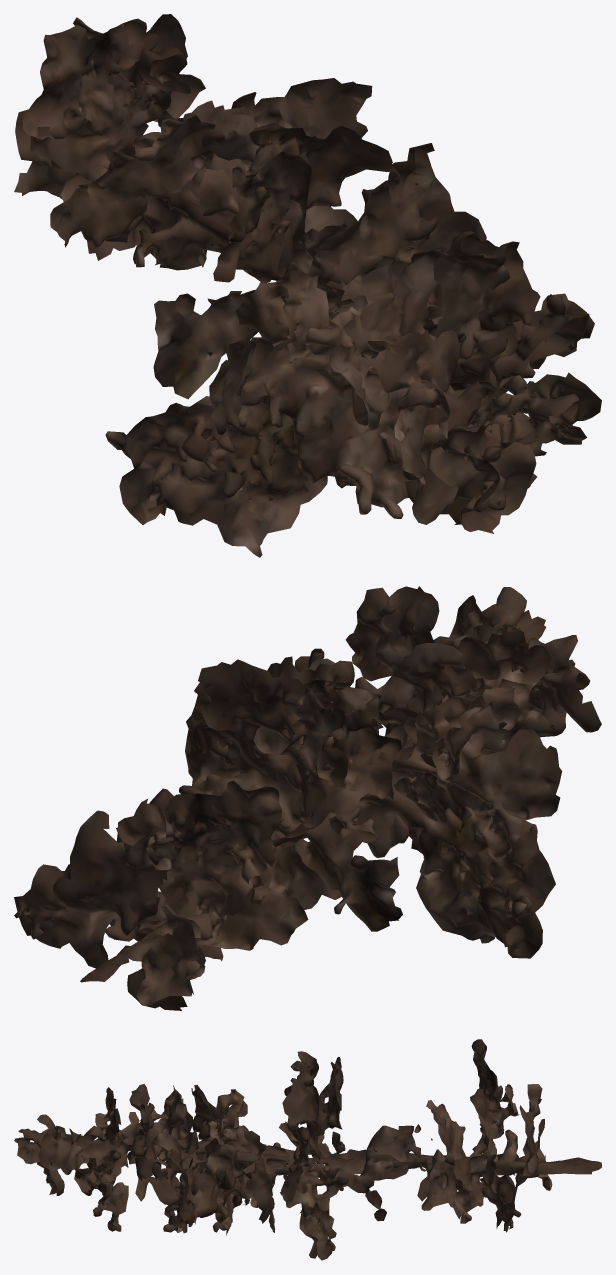
File: tree_mesh.dae
The picture shows the model from 3 angles, top to bottom: view 1: azimuth 30°, elevation 25°; view 2: azimuth 150°, elevation 25°; view 3: azimuth 270°, elevation 25°; orthographic projection. The views are drawn at different scales.
Parts seen in each view (by area): view 1: node0; view 2: node0; view 3: node0.
Part boxes in pixels (bbox=[...]): node0: bbox=[14, 14, 601, 557]; node0: bbox=[14, 586, 601, 1010]; node0: bbox=[14, 1039, 601, 1260].
Size of the model in its own units: 6.2 by 5.18 by 13.5.
